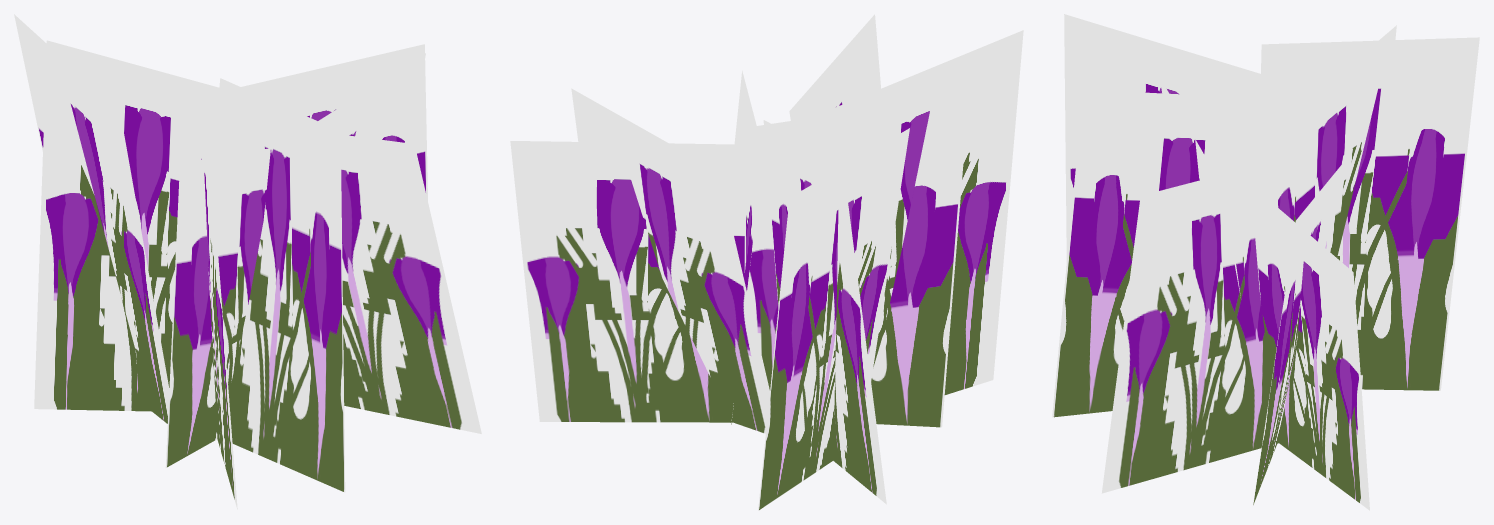
Rendered from PT_Crocuses_01.fbx.
3 renders of one model, left to right at view 1: azimuth 30°, elevation 25°; view 2: azimuth 150°, elevation 25°; view 3: azimuth 270°, elevation 25°, orthographic. The views are drawn at different scales.
Parts seen in each view (by area): view 1: PT_Crocuses_01_LOD0; view 2: PT_Crocuses_01_LOD0; view 3: PT_Crocuses_01_LOD0.
Part boxes in pixels (left/top/right/bottom): PT_Crocuses_01_LOD0: left=14, top=14, right=481, bottom=509; PT_Crocuses_01_LOD0: left=510, top=14, right=1023, bottom=510; PT_Crocuses_01_LOD0: left=1052, top=14, right=1479, bottom=510.
Size of what is drawn, in the model's own units: 38.35 by 33.99 by 38.36.
